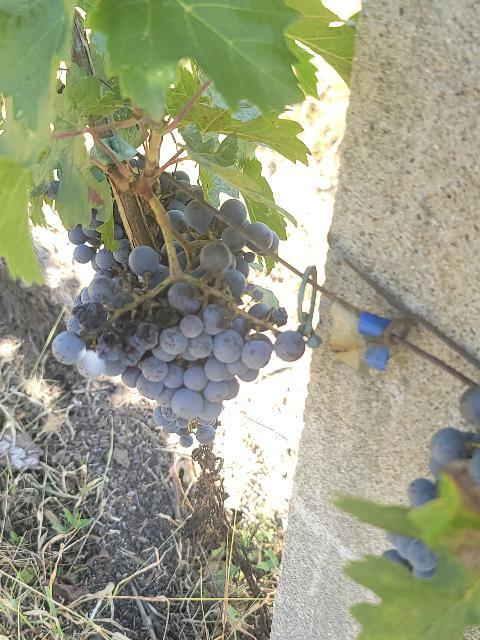grapes: (52, 199, 305, 446)
